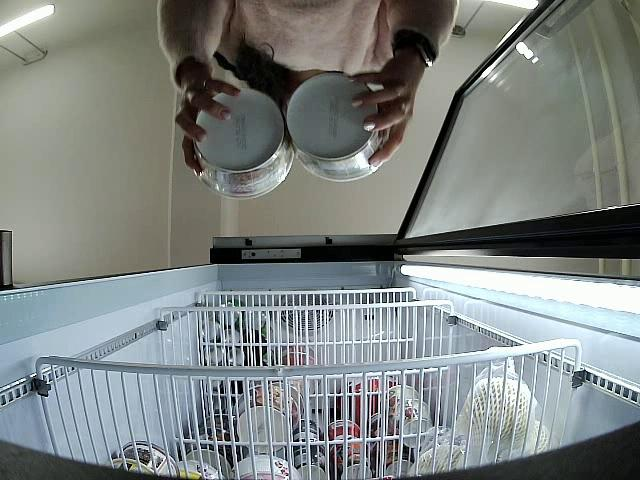00_hand: (349, 55, 425, 167), (175, 67, 242, 177)
03_chapagetti_L: (285, 70, 391, 183), (194, 82, 291, 200)
